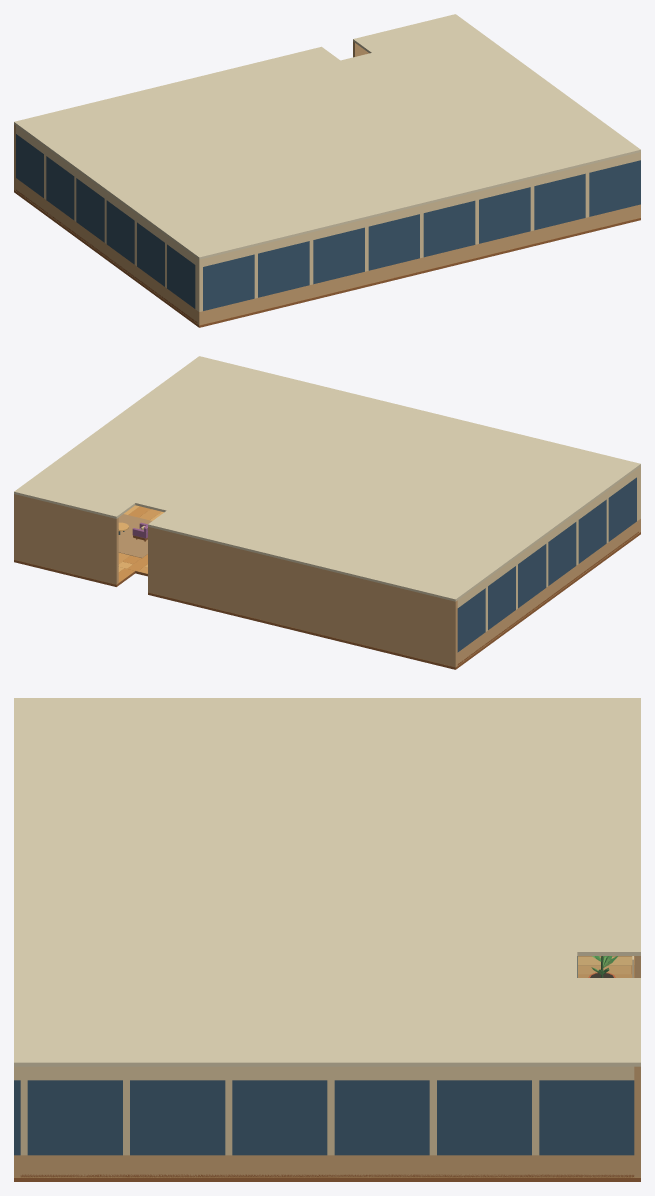
Rendered from conference_room.glb.
3 views of the same model, one above another, from view 1: azimuth 30°, elevation 25°; view 2: azimuth 150°, elevation 25°; view 3: azimuth 270°, elevation 25° (orthographic). The views are drawn at different scales.
Parts seen in each view (by area): view 1: ceiling_main, wall_south_base, ceiling_north_west, wall_south_header, wall_west_base, window_south_4, window_south_7, window_south_1, window_south_0, window_south_3, window_south_2, window_south_5 (+10 smaller); view 2: ceiling_main, wall_north_west, wall_north_east, ceiling_north_west, wall_west_base, ceiling_north_east, wall_west_header, floor_main, window_west_00, window_west_01, window_west_03, window_west_05 (+5 smaller); view 3: ceiling_main, ceiling_north_west, wall_east_base, wall_east_header, window_east_00, window_east_01, window_east_02, window_east_03, window_east_05, window_east_04, ceiling_north_east, floor_main (+4 smaller).
Part boxes in pixels (left/top/right/bottom): ceiling_main: left=32, top=28, right=640, bottom=259; wall_south_base: left=197, top=204, right=640, bottom=325; ceiling_north_west: left=14, top=46, right=340, bottom=137; wall_south_header: left=197, top=152, right=640, bottom=267; wall_west_base: left=16, top=178, right=197, bottom=323; window_south_4: left=423, top=200, right=475, bottom=257; window_south_7: left=589, top=160, right=640, bottom=216; window_south_1: left=258, top=241, right=309, bottom=297; window_south_0: left=203, top=254, right=254, bottom=310; window_south_3: left=368, top=214, right=419, bottom=270; window_south_2: left=313, top=227, right=364, bottom=284; window_south_5: left=479, top=187, right=530, bottom=243; ceiling_main: left=33, top=356, right=640, bottom=587; wall_north_west: left=148, top=526, right=457, bottom=667; wall_north_east: left=14, top=494, right=118, bottom=584; ceiling_north_west: left=148, top=510, right=474, bottom=601; wall_west_base: left=457, top=520, right=638, bottom=665; ceiling_north_east: left=14, top=478, right=135, bottom=518; wall_west_header: left=457, top=468, right=638, bottom=607; floor_main: left=118, top=505, right=640, bottom=655; window_west_00: left=608, top=477, right=636, bottom=541; window_west_01: left=578, top=499, right=606, bottom=563; window_west_03: left=518, top=544, right=546, bottom=608; window_west_05: left=457, top=588, right=485, bottom=652; ceiling_main: left=14, top=698, right=577, bottom=1066; ceiling_north_west: left=577, top=698, right=640, bottom=955; wall_east_base: left=20, top=1155, right=634, bottom=1177; wall_east_header: left=20, top=1066, right=634, bottom=1080; window_east_00: left=27, top=1080, right=122, bottom=1155; window_east_01: left=130, top=1080, right=225, bottom=1155; window_east_02: left=232, top=1080, right=327, bottom=1155; window_east_03: left=334, top=1080, right=429, bottom=1155; window_east_05: left=539, top=1080, right=634, bottom=1155; window_east_04: left=437, top=1080, right=531, bottom=1155; ceiling_north_east: left=577, top=978, right=640, bottom=1066; floor_main: left=14, top=1177, right=577, bottom=1181.
Bounding box in the file's own units: 36.6 × 5.58 × 26.6.
